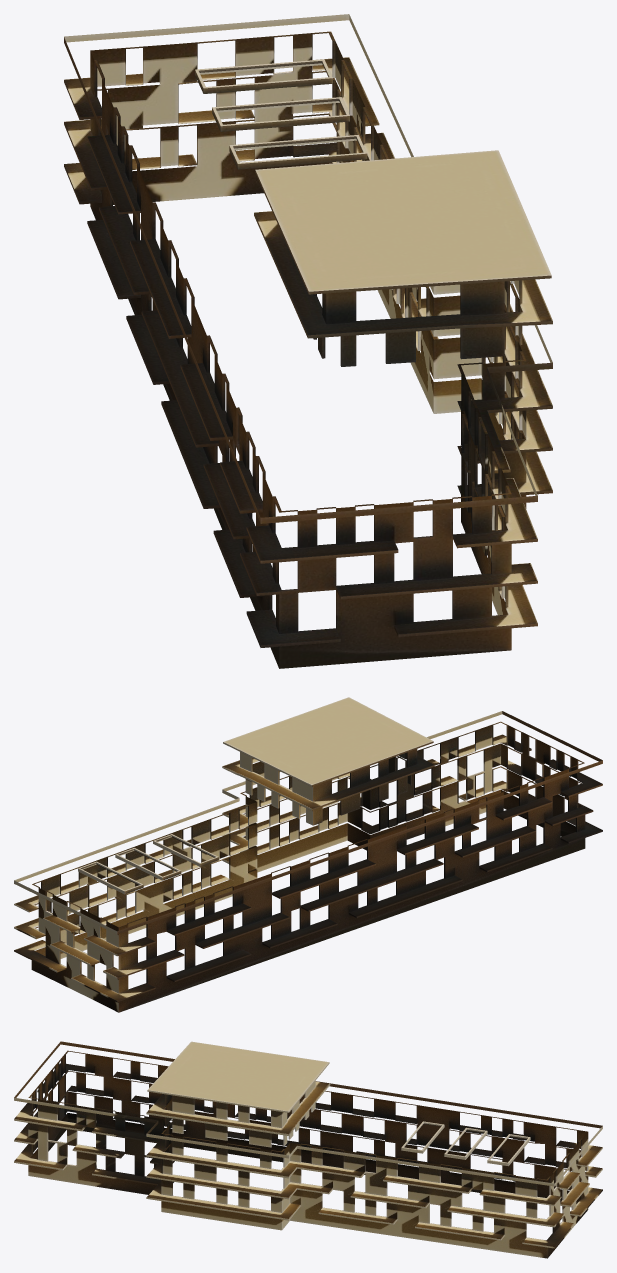
The model's file is Building_08.fbx.
3 views of the same model, one above another, from view 1: azimuth 30°, elevation 25°; view 2: azimuth 150°, elevation 25°; view 3: azimuth 270°, elevation 25° (orthographic). The views are drawn at different scales.
Parts seen in each view (by area): view 1: Building_08; view 2: Building_08; view 3: Building_08.
Boxes of the visible parts, <box> form: Building_08: <box>64,14,552,668</box>; Building_08: <box>14,697,602,1012</box>; Building_08: <box>14,1041,602,1258</box>.
Size of the model in its own units: 43.13 by 17.64 by 75.52.
1 material, 1 textured.
